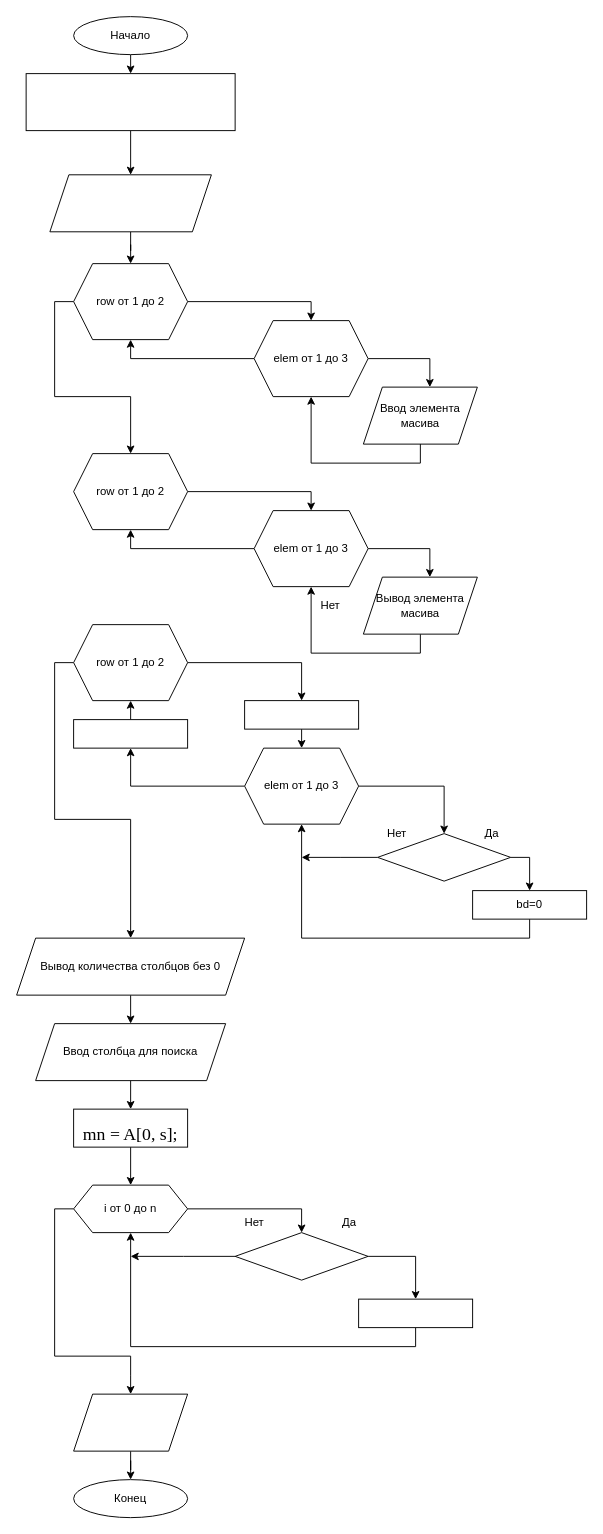
Some shapes in this 603 by 1534 pixel diagram are drawn without their labels. The shapes that lost their labels are listed below. From the top down, each one's centre as x and y in pixels, then its label:
At pixel 130 102: "n = 2; m = 3; bd; int[,] A".
At pixel 130 203: "Вывод размера массива".
At pixel 130 733: "S+=bd".
At pixel 301 714: "bd=1".
At pixel 444 857: "A[i, j] =0".
At pixel 301 1256: "A[i, s] < mn".
At pixel 415 1313: "mn = A[i, s];".
At pixel 130 1422: "Вывод mn".
